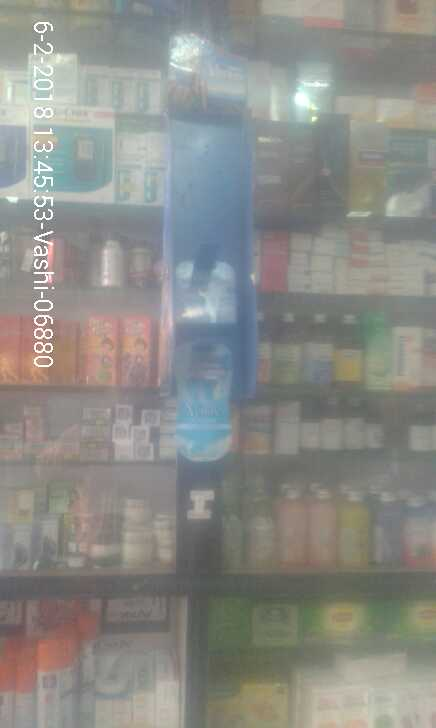reject: (131, 295, 319, 585)
